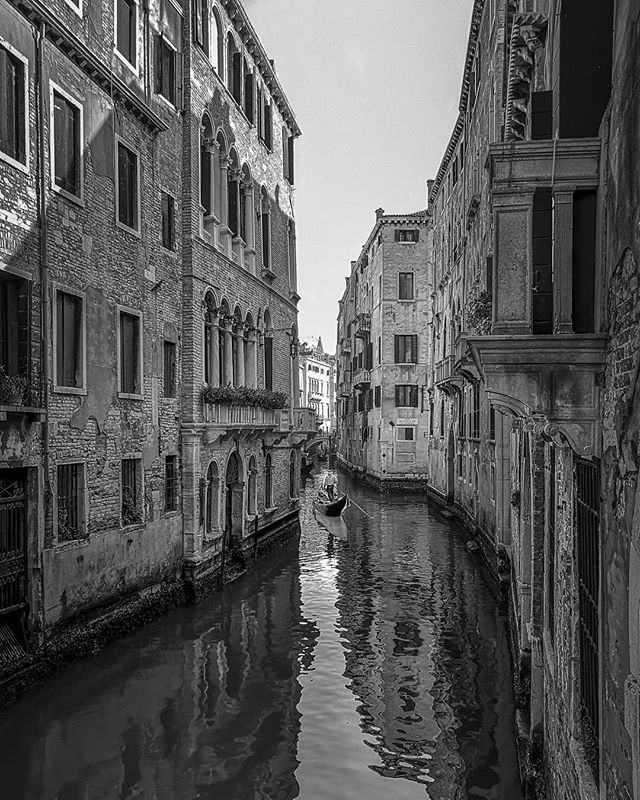boat: (307, 475, 356, 528)
building: (442, 1, 640, 788), (1, 1, 201, 631), (184, 1, 317, 558), (338, 209, 428, 482)
river: (23, 496, 507, 800)
sky: (289, 1, 442, 222)
